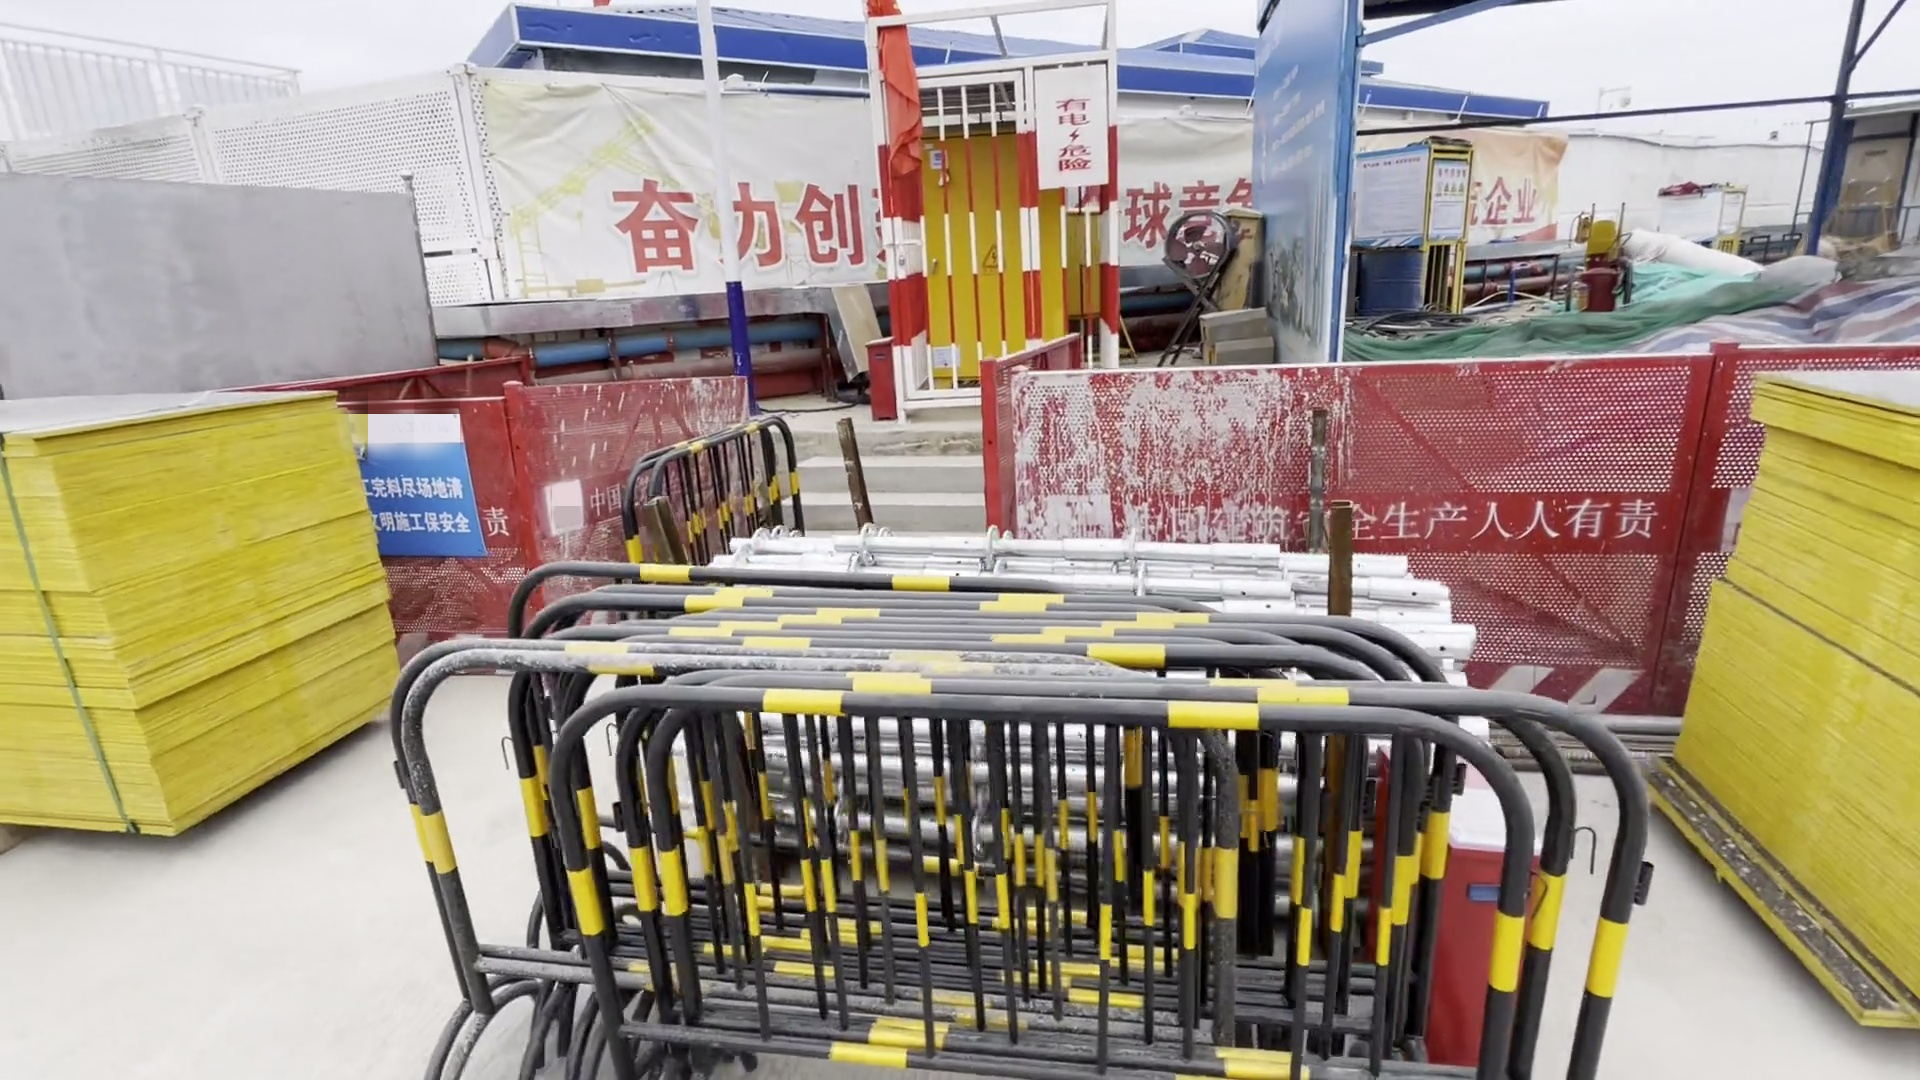board: (1, 384, 392, 855), (1660, 361, 1920, 1030)
ebox: (901, 138, 1084, 375)
fence: (572, 585, 1548, 1073), (1001, 352, 1667, 651)
slogan: (640, 185, 1263, 247)
